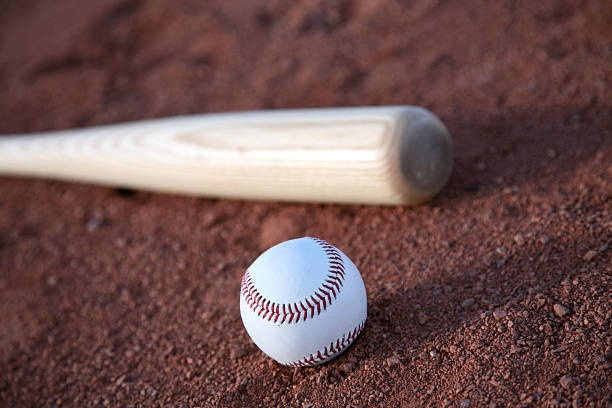bita: (1, 109, 455, 205)
